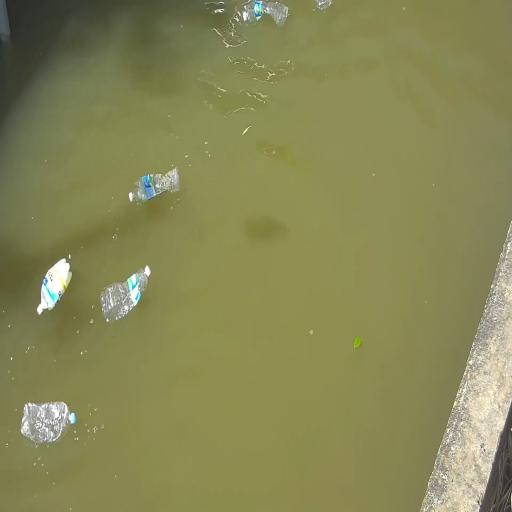plastic: (101, 266, 150, 321), (21, 402, 75, 443), (37, 258, 72, 314), (129, 168, 179, 202), (243, 0, 289, 31)
